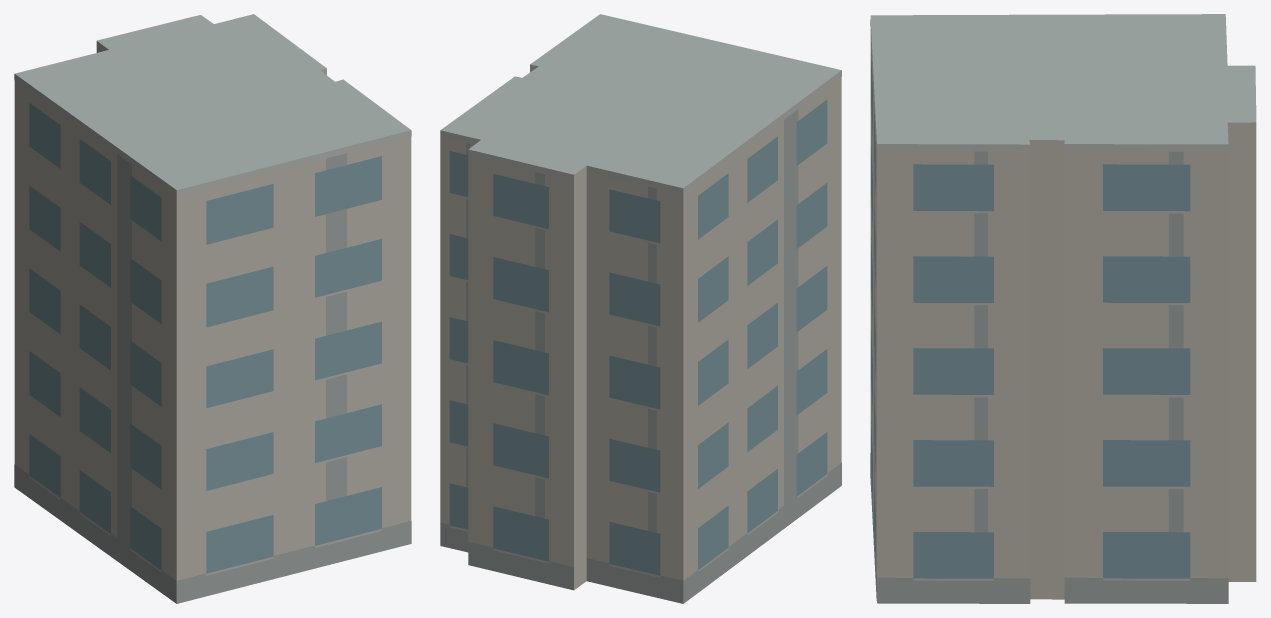
The model's file is survey-upis-33001478.glb.
3 views of the same model, side by side, from view 1: azimuth 30°, elevation 25°; view 2: azimuth 150°, elevation 25°; view 3: azimuth 270°, elevation 25° (orthographic). The views are drawn at different scales.
Parts seen in each view (by area): view 1: survey-upis-33001478.tmp; view 2: survey-upis-33001478.tmp; view 3: survey-upis-33001478.tmp.
Part boxes in pixels (x1,y1,x2,y2): survey-upis-33001478.tmp: [14, 14, 411, 603]; survey-upis-33001478.tmp: [440, 14, 841, 603]; survey-upis-33001478.tmp: [870, 14, 1256, 603].
Bounding box in the file's own units: 9.39 × 15.4 × 11.74.
